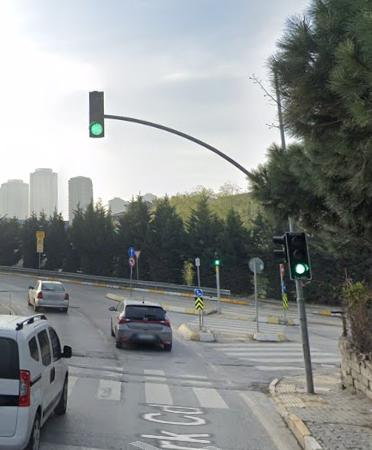greenlight: (287, 232, 310, 276), (89, 90, 106, 137)
